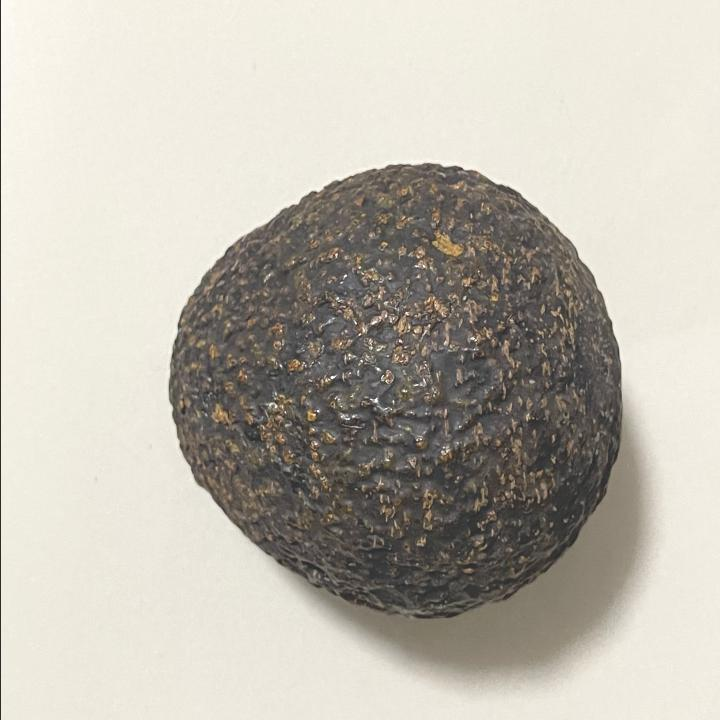Level2: (155, 151, 627, 627)
